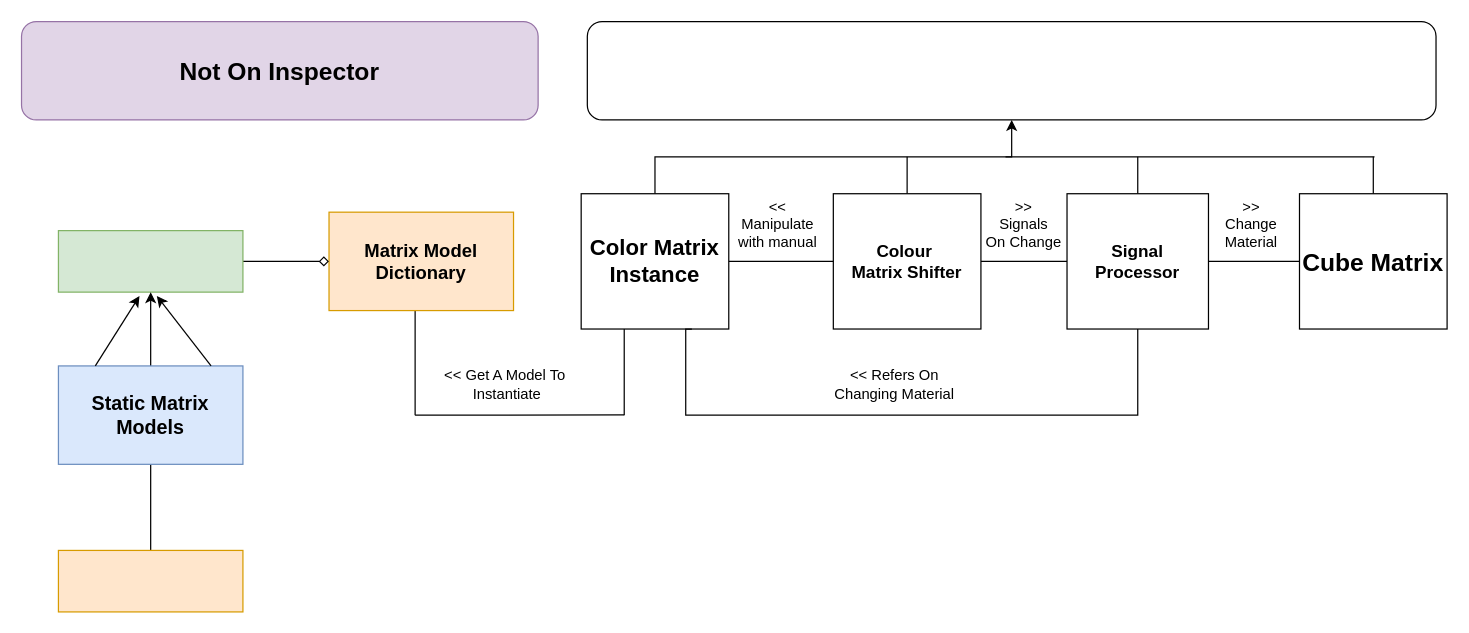
This 1469x633 diagram has some shape labels left out. The shapes that lost their labels are listed below. From the top down, each one's centre as x and y in pixels, then its label:
the point at 1011,70: Mono Behaviour
the point at 150,260: Read Only Matrix Model <<Interface>>
the point at 150,580: Manual
